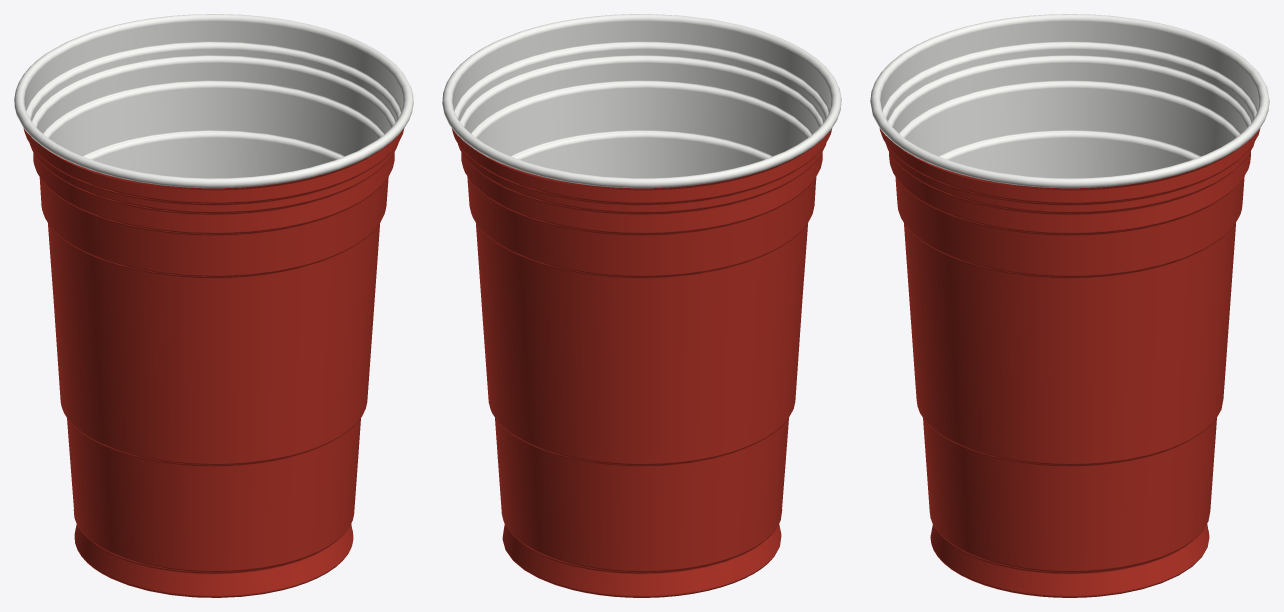
The model's file is 16oz. Red Solo Cup v3_ForSTATIC.fbx.
3 views of the same model, side by side, from view 1: azimuth 30°, elevation 25°; view 2: azimuth 150°, elevation 25°; view 3: azimuth 270°, elevation 25° (orthographic).
Parts seen in each view (by area): view 1: Body1; view 2: Body1; view 3: Body1.
Part boxes in pixels (x1=…): Body1: x1=14, y1=14, x2=413, y2=597; Body1: x1=442, y1=14, x2=841, y2=597; Body1: x1=870, y1=14, x2=1269, y2=597.
Size of the model in its own units: 7.84 by 9.6 by 7.84.
